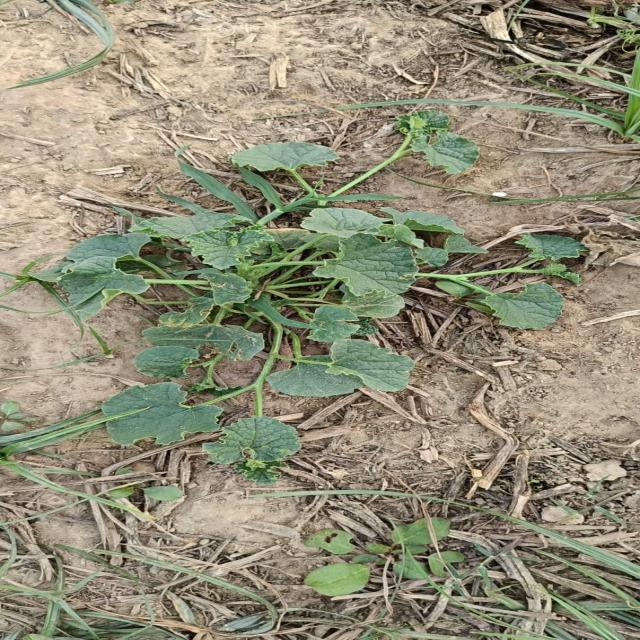plant: (19, 141, 482, 446), (423, 235, 582, 329), (338, 110, 478, 190), (202, 416, 298, 485)
